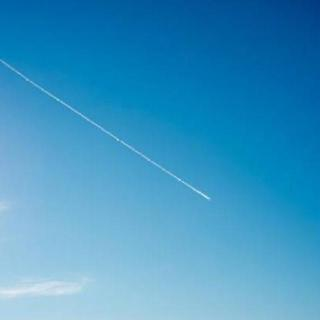Contrails: (0, 43, 214, 205)
